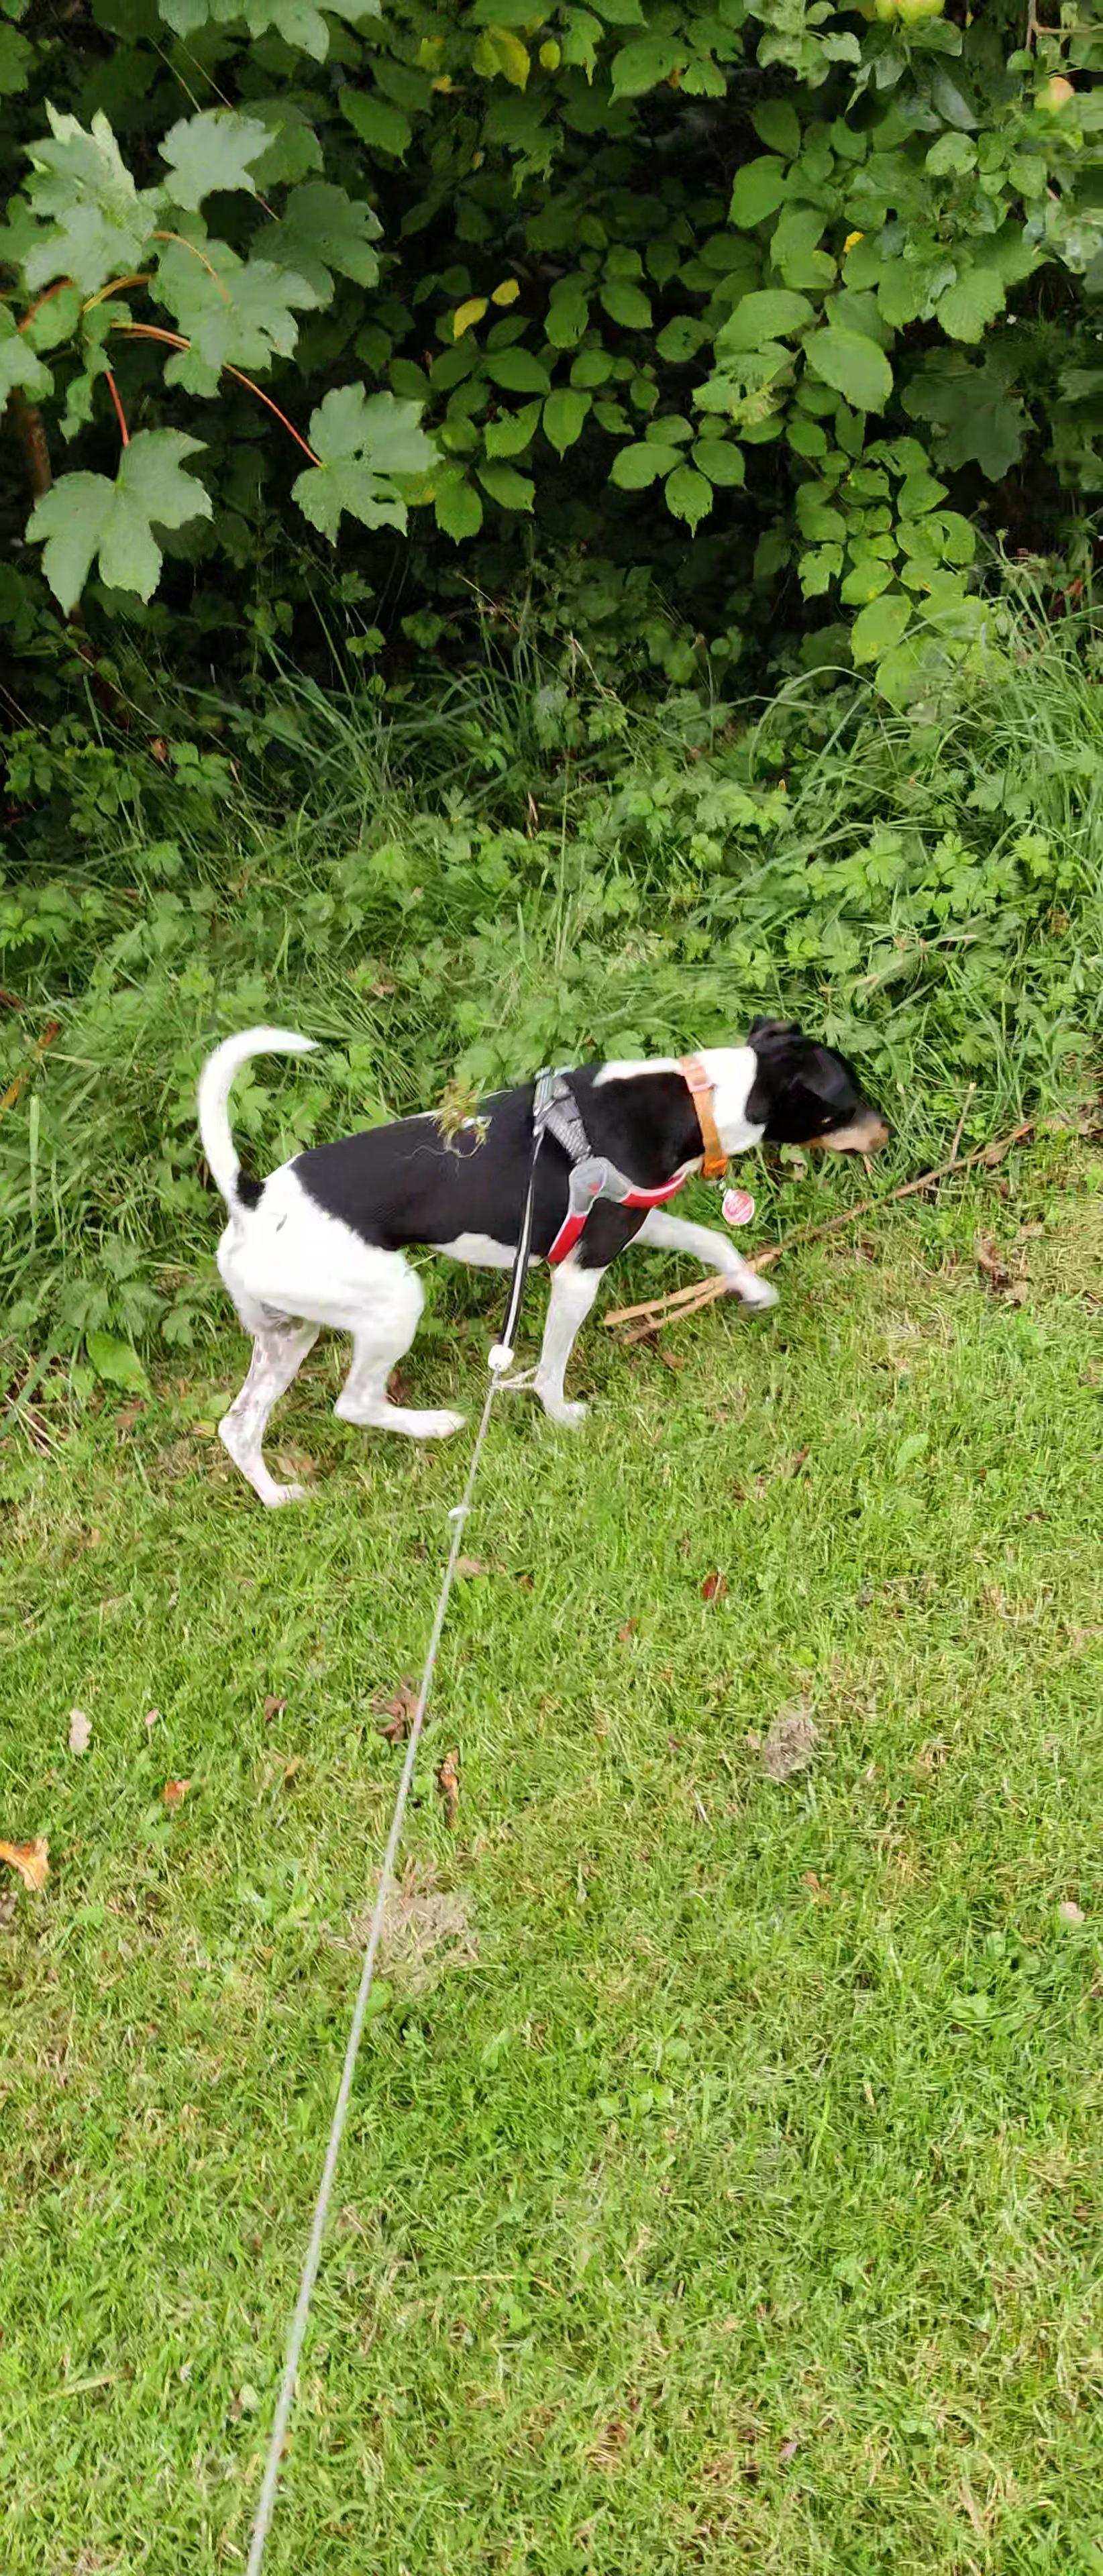Dog: (186, 1002, 912, 1526)
